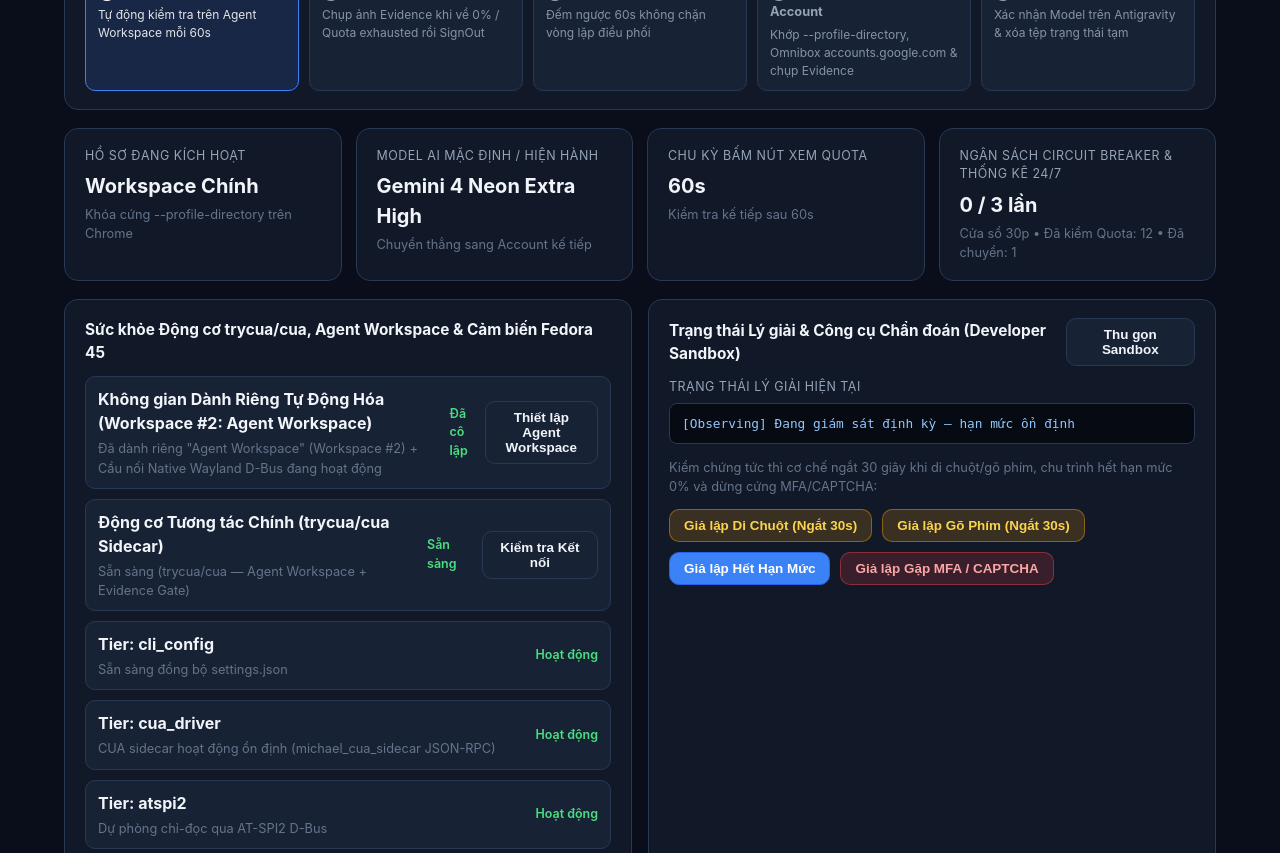
Test: Michael Auto Desktop Dashboard v2.5 Production › displays Hard-Stop banner on MFA/CAPTCHA challenge and recovers on reset
(page scrolled)
Step 1. Click the button "Giả lập Gặp MFA / CAPTCHA" → (947, 568), box [840,552,1054,585]
(page scrolled)
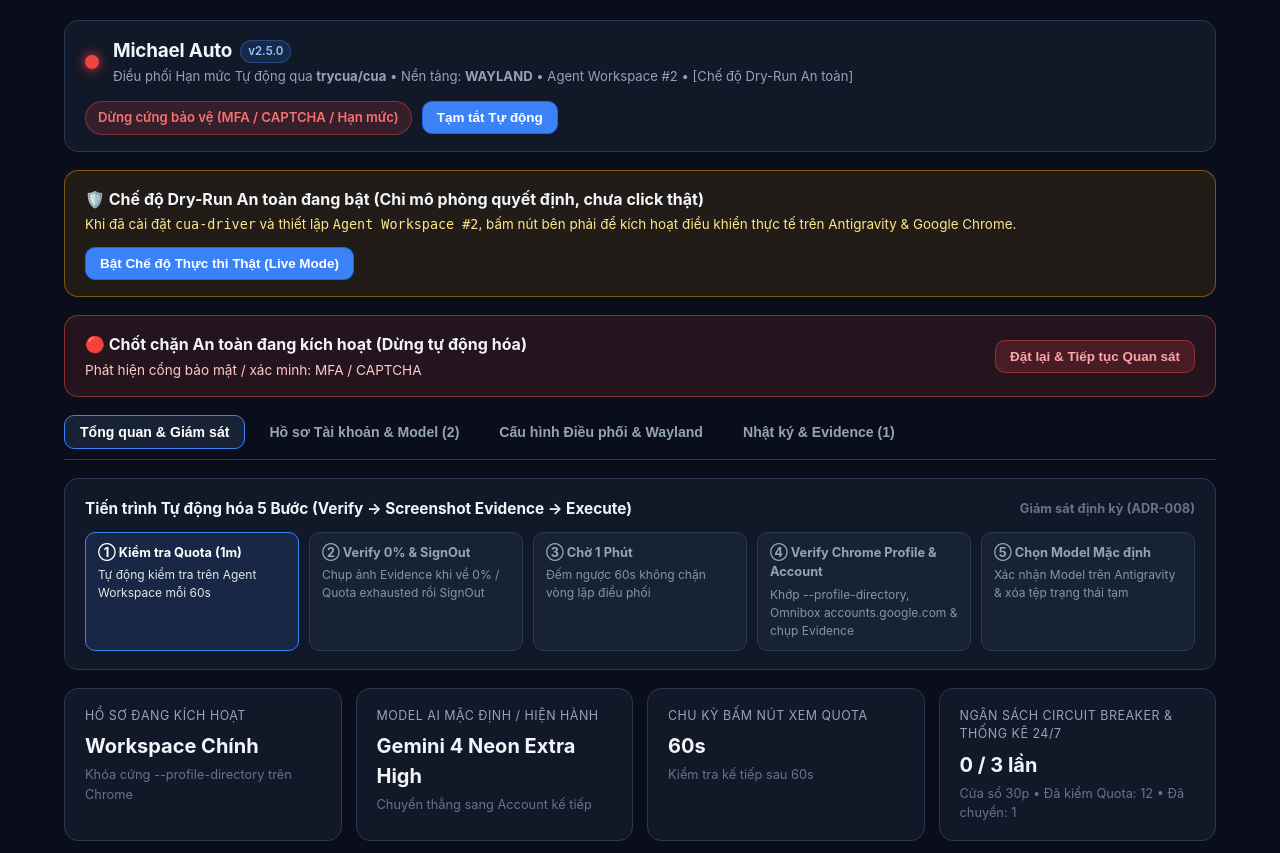
expect the element with test id "hardstop-banner" is shown: met, box [64,315,1216,397]
Step 2. Click the button "Đặt lại & Tiếp tục Quan sát" → (1095, 356), box [995,340,1195,372]
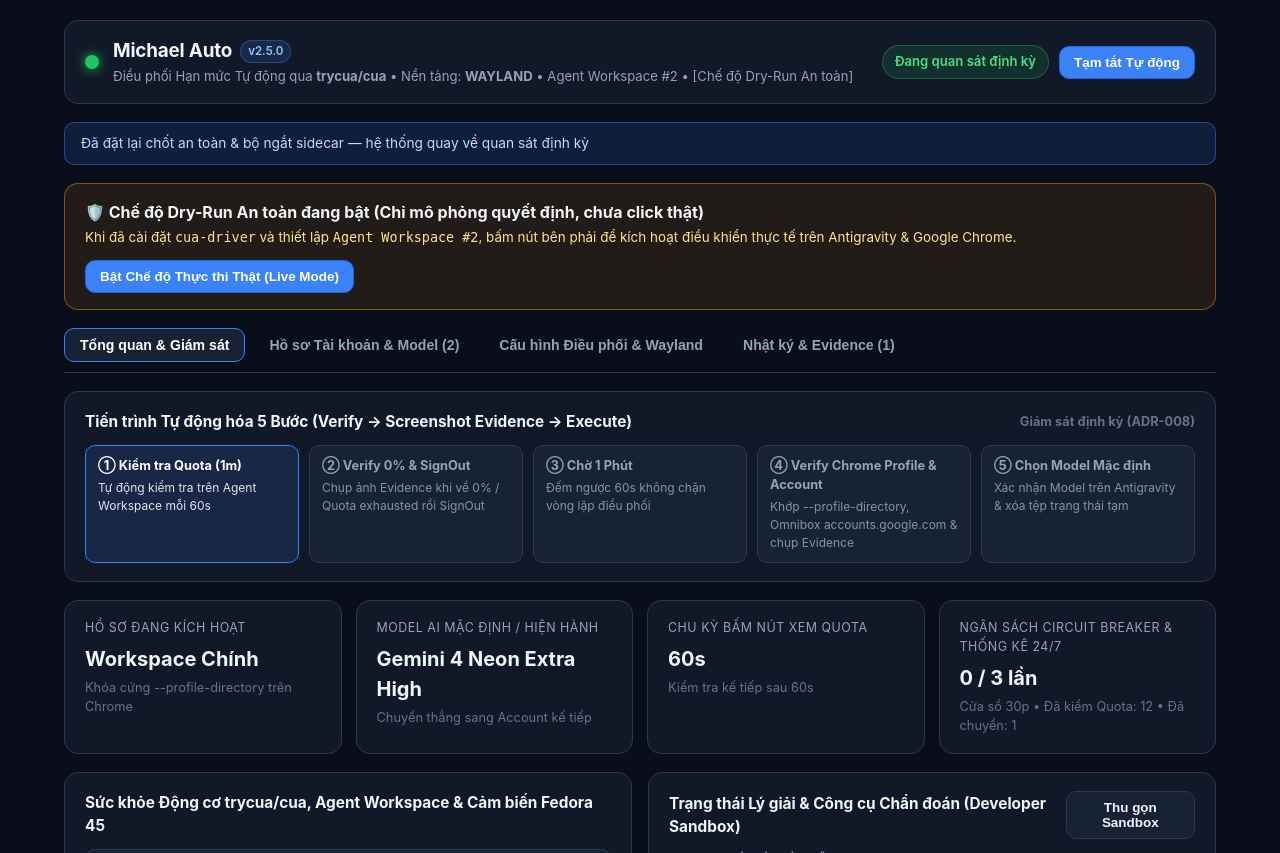
expect the element with test id "hardstop-banner" is gone: met
expect the text with test id "fsm-state-pill" reads "Đang quan sát định kỳ": met, box [895,53,1036,69]
